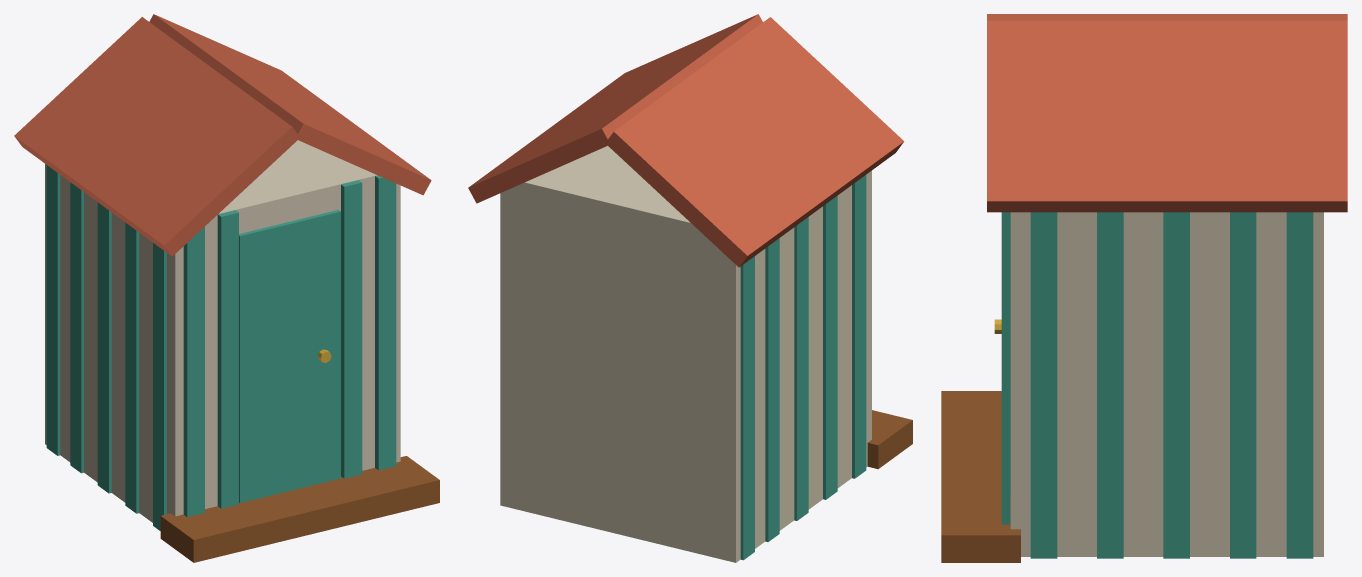
Rendered from changing_hut.glb.
3 renders of one model, left to right at view 1: azimuth 30°, elevation 25°; view 2: azimuth 150°, elevation 25°; view 3: azimuth 270°, elevation 25°, orthographic. The views are drawn at different scales.
Parts seen in each view (by area): view 1: changing_hut_pc; view 2: changing_hut_pc; view 3: changing_hut_pc.
Boxes of the visible parts, bbox=[...] form: changing_hut_pc: bbox=[14, 14, 439, 562]; changing_hut_pc: bbox=[468, 14, 912, 562]; changing_hut_pc: bbox=[941, 14, 1347, 562].
Bounding box in the file's own units: 1.96 × 2.75 × 2.14.
